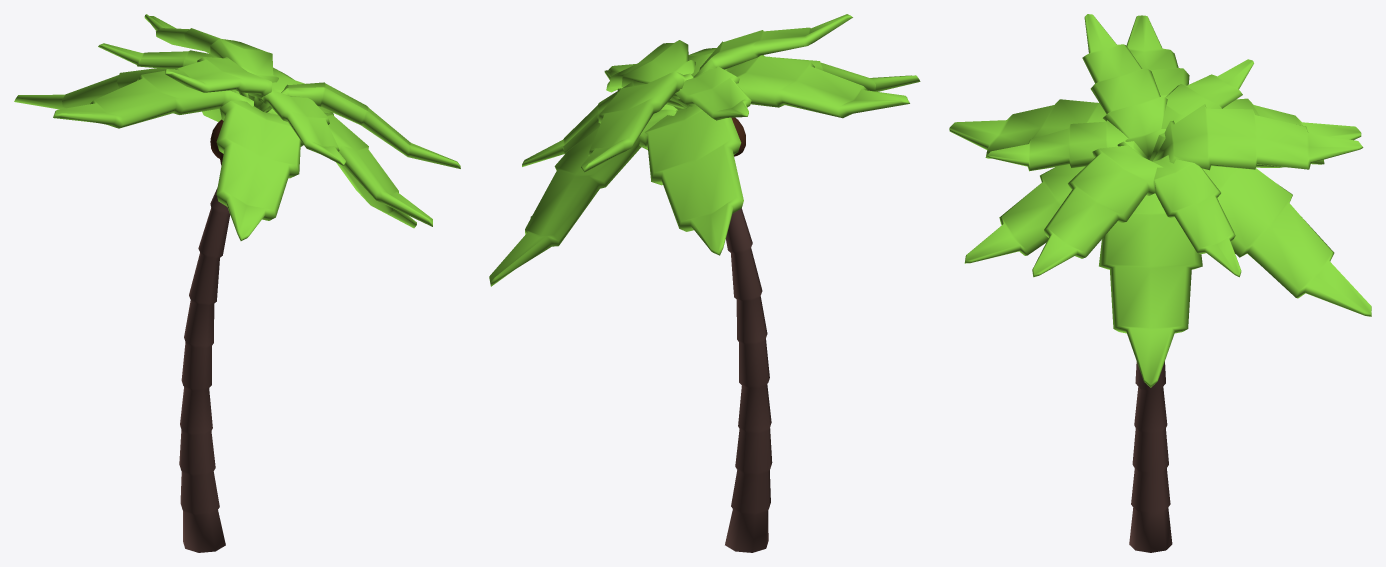
The model's file is palm tree.fbx.
3 renders of one model, left to right at view 1: azimuth 30°, elevation 25°; view 2: azimuth 150°, elevation 25°; view 3: azimuth 270°, elevation 25°, orthographic. The views are drawn at different scales.
Visible parts, largest first — view 1: Circle, Plane.004, Plane.003, Plane.006, Plane.005, Plane.008, Plane.011, Plane.010, Plane.002, Plane.009, Plane; view 2: Circle, Plane.002, Plane.001, Plane.003, Plane.008, Plane.010, Plane.009, Plane.006, Plane.007, Plane.004; view 3: Plane, Plane.001, Plane.008, Plane.006, Plane.010, Circle, Plane.007, Plane.005, Plane.004, Plane.011, Plane.009, Plane.003 (+1 smaller).
Boxes of the visible parts, box(x1,y1,x2,y2) form: Circle: box(179, 187, 230, 552); Plane.004: box(216, 100, 303, 240); Plane.003: box(53, 68, 253, 128); Plane.006: box(265, 82, 460, 168); Plane.005: box(267, 108, 432, 226); Plane.008: box(144, 14, 278, 82); Plane.011: box(254, 90, 345, 165); Plane.010: box(165, 57, 271, 111); Plane.002: box(14, 68, 235, 109); Plane.009: box(98, 43, 248, 97); Plane: box(336, 162, 416, 228); Circle: box(725, 208, 772, 552); Plane.002: box(639, 105, 743, 255); Plane.001: box(489, 109, 676, 286); Plane.003: box(729, 55, 909, 118); Plane.008: box(581, 71, 693, 172); Plane.010: box(693, 14, 852, 77); Plane.009: box(672, 66, 751, 120); Plane.006: box(604, 40, 695, 92); Plane.007: box(522, 81, 685, 166); Plane.004: box(727, 56, 920, 91); Plane: box(1099, 193, 1202, 387); Plane.001: box(1202, 166, 1371, 316); Plane.008: box(1152, 104, 1363, 170); Plane.006: box(1032, 141, 1163, 277); Plane.010: box(1082, 14, 1167, 159); Circle: box(1129, 361, 1172, 552); Plane.007: box(1153, 155, 1241, 277); Plane.005: box(964, 164, 1084, 263); Plane.004: box(949, 99, 1106, 158); Plane.011: box(987, 120, 1148, 171); Plane.009: box(1150, 59, 1253, 161); Plane.003: box(1126, 15, 1189, 97).
Size of the model in its own units: 2397 by 3208 by 2462.
